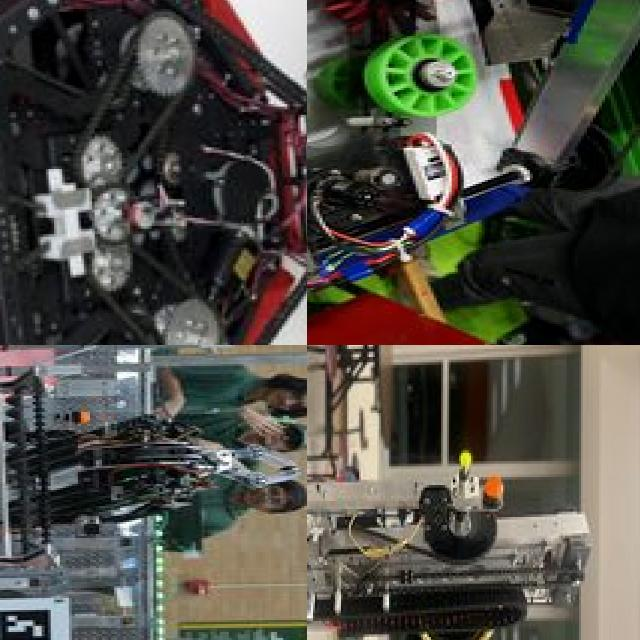FRC-Robots: (307, 0, 640, 345), (0, 0, 307, 345), (307, 345, 591, 640), (0, 345, 230, 613)
